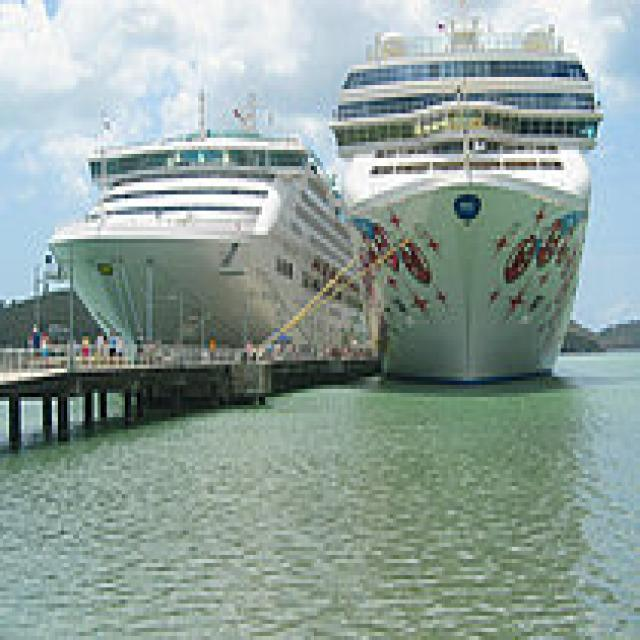Ship: (321, 13, 617, 394), (38, 78, 388, 370)
